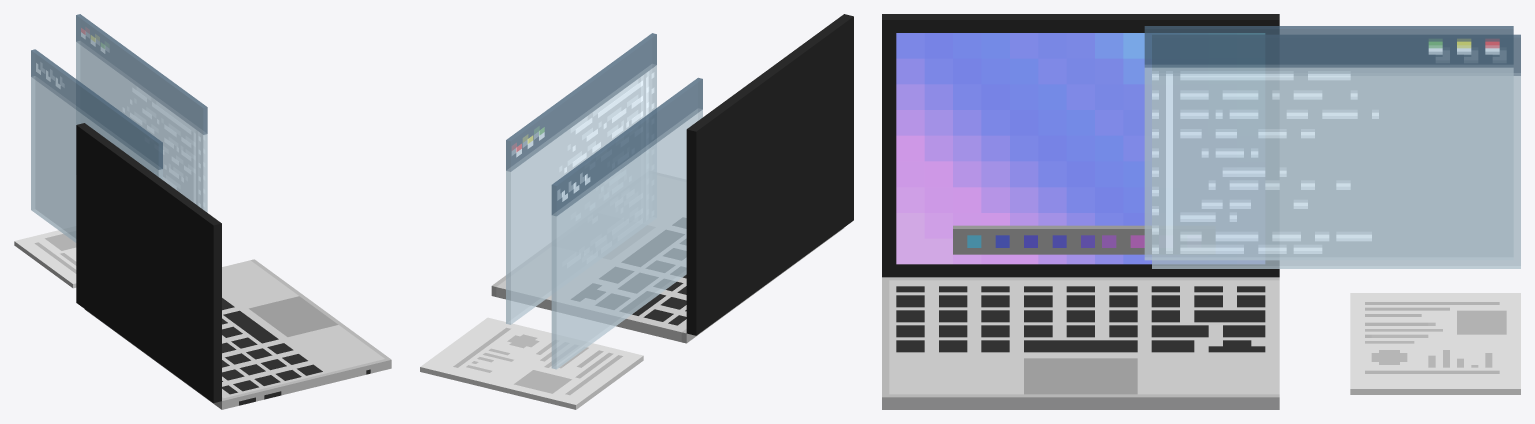
Rendered from laptop.gltf.
3 renders of one model, left to right at view 1: azimuth 30°, elevation 25°; view 2: azimuth 150°, elevation 25°; view 3: azimuth 270°, elevation 25°, orthographic. The views are drawn at different scales.
Parts seen in each view (by area): view 1: laptop_0, laptop.001_1; view 2: laptop_0, laptop.001_1; view 3: laptop_0, laptop.001_1, laptop.002_2.
Part boxes in pixels (x1,y1,x2,y2): laptop_0: (14, 123, 391, 409); laptop.001_1: (31, 14, 207, 242); laptop_0: (420, 14, 853, 409); laptop.001_1: (506, 33, 702, 369); laptop_0: (882, 14, 1520, 409); laptop.001_1: (1144, 26, 1520, 268); laptop.002_2: (896, 33, 1264, 264).
Bounding box in the file's own units: 4.2 × 4.9 × 9.
Materials: 3 (3 with a texture image).
